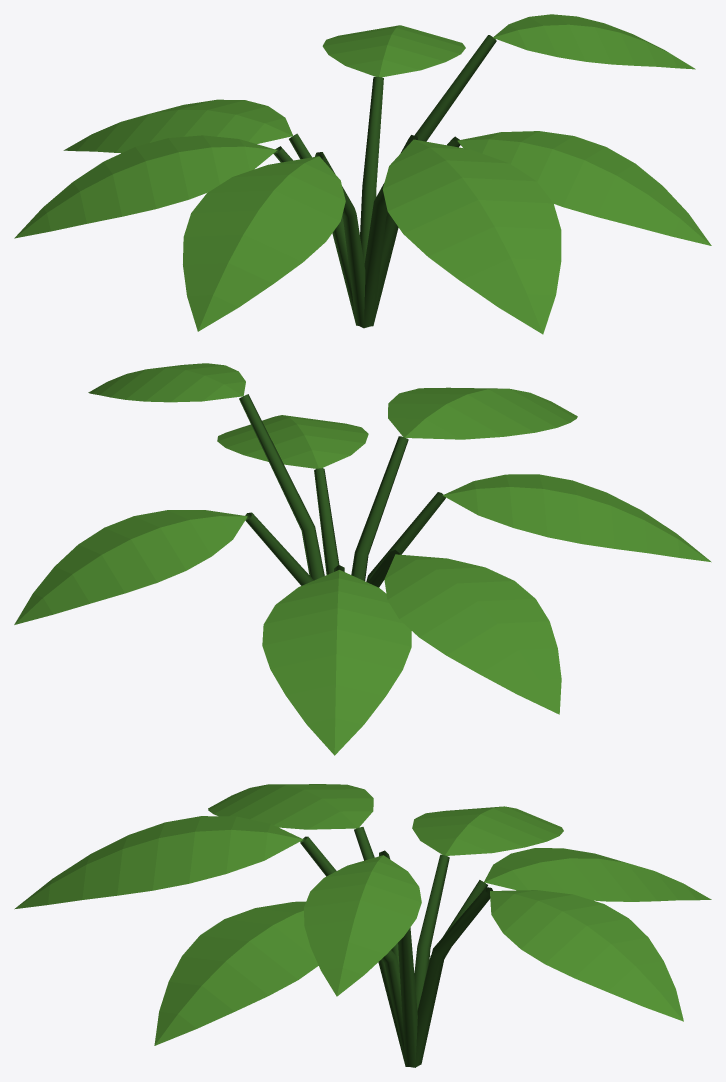
File: PLANT_BigLeaf_MD.glb
3 renders of one model, top to bottom at view 1: azimuth 30°, elevation 25°; view 2: azimuth 150°, elevation 25°; view 3: azimuth 270°, elevation 25°, orthographic. The views are drawn at different scales.
Visible parts, largest first — view 1: PLANT_BigLeaf_MD; view 2: PLANT_BigLeaf_MD; view 3: PLANT_BigLeaf_MD.
Boxes of the visible parts, left/top/right/bottom form: PLANT_BigLeaf_MD: left=14, top=14, right=711, bottom=334; PLANT_BigLeaf_MD: left=14, top=363, right=711, bottom=755; PLANT_BigLeaf_MD: left=14, top=784, right=711, bottom=1067.
Size of the model in its own units: 1.78 by 0.8116 by 1.91.
